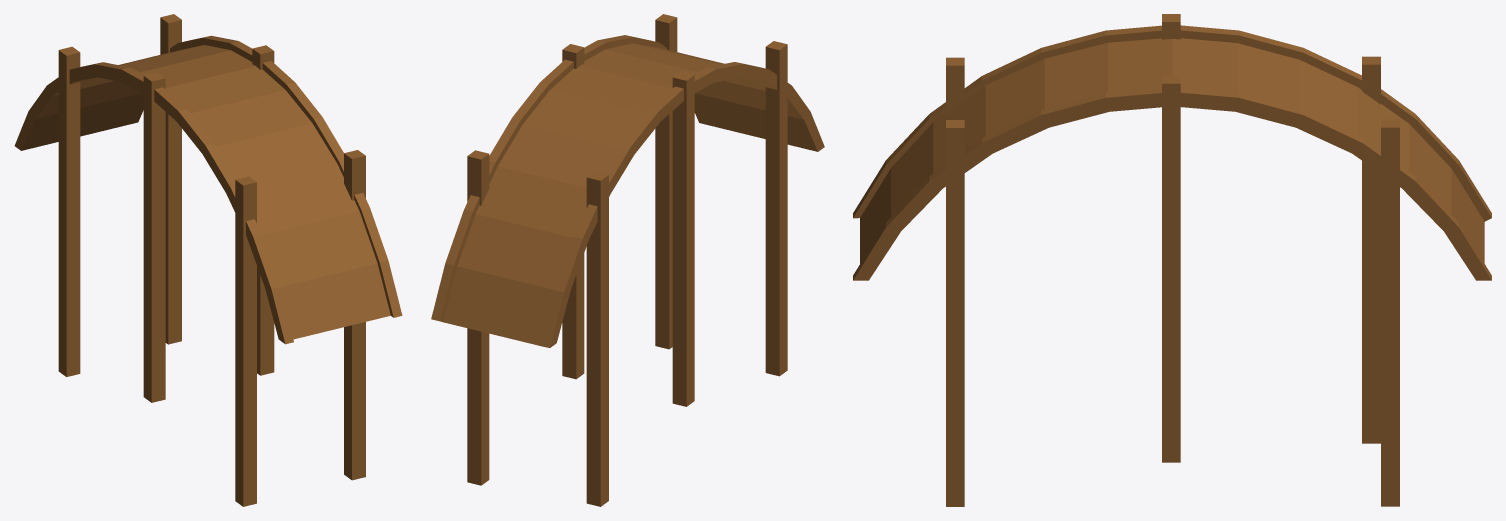
The model's file is bridge.dae.
The picture shows the model from 3 angles, left to right: view 1: azimuth 30°, elevation 25°; view 2: azimuth 150°, elevation 25°; view 3: azimuth 270°, elevation 25°; orthographic projection. The views are drawn at different scales.
Parts seen in each view (by area): view 1: Model, post5, post3, post1, post6, post4, post2; view 2: Model, post1, post3, post5, post4, post6, post2; view 3: Model, post2, post6, post4, post5, post1.
Part boxes in pixels (bbox=[...]): Model: bbox=[14, 35, 402, 344]; post5: bbox=[58, 46, 80, 376]; post3: bbox=[143, 72, 165, 402]; post1: bbox=[235, 176, 256, 506]; post6: bbox=[160, 14, 181, 344]; post4: bbox=[344, 150, 365, 480]; post2: bbox=[252, 45, 274, 375]; Model: bbox=[431, 35, 824, 347]; post1: bbox=[765, 41, 787, 376]; post3: bbox=[672, 71, 694, 406]; post5: bbox=[586, 171, 608, 506]; post4: bbox=[655, 14, 677, 349]; post6: bbox=[467, 150, 489, 485]; post2: bbox=[562, 44, 584, 379]; Model: bbox=[853, 25, 1491, 280]; post2: bbox=[1162, 75, 1180, 462]; post6: bbox=[1381, 119, 1399, 506]; post4: bbox=[946, 120, 964, 506]; post5: bbox=[1362, 56, 1380, 443]; post1: bbox=[946, 57, 964, 114].
Size of the model in its own units: 63.57 by 242 by 177.
